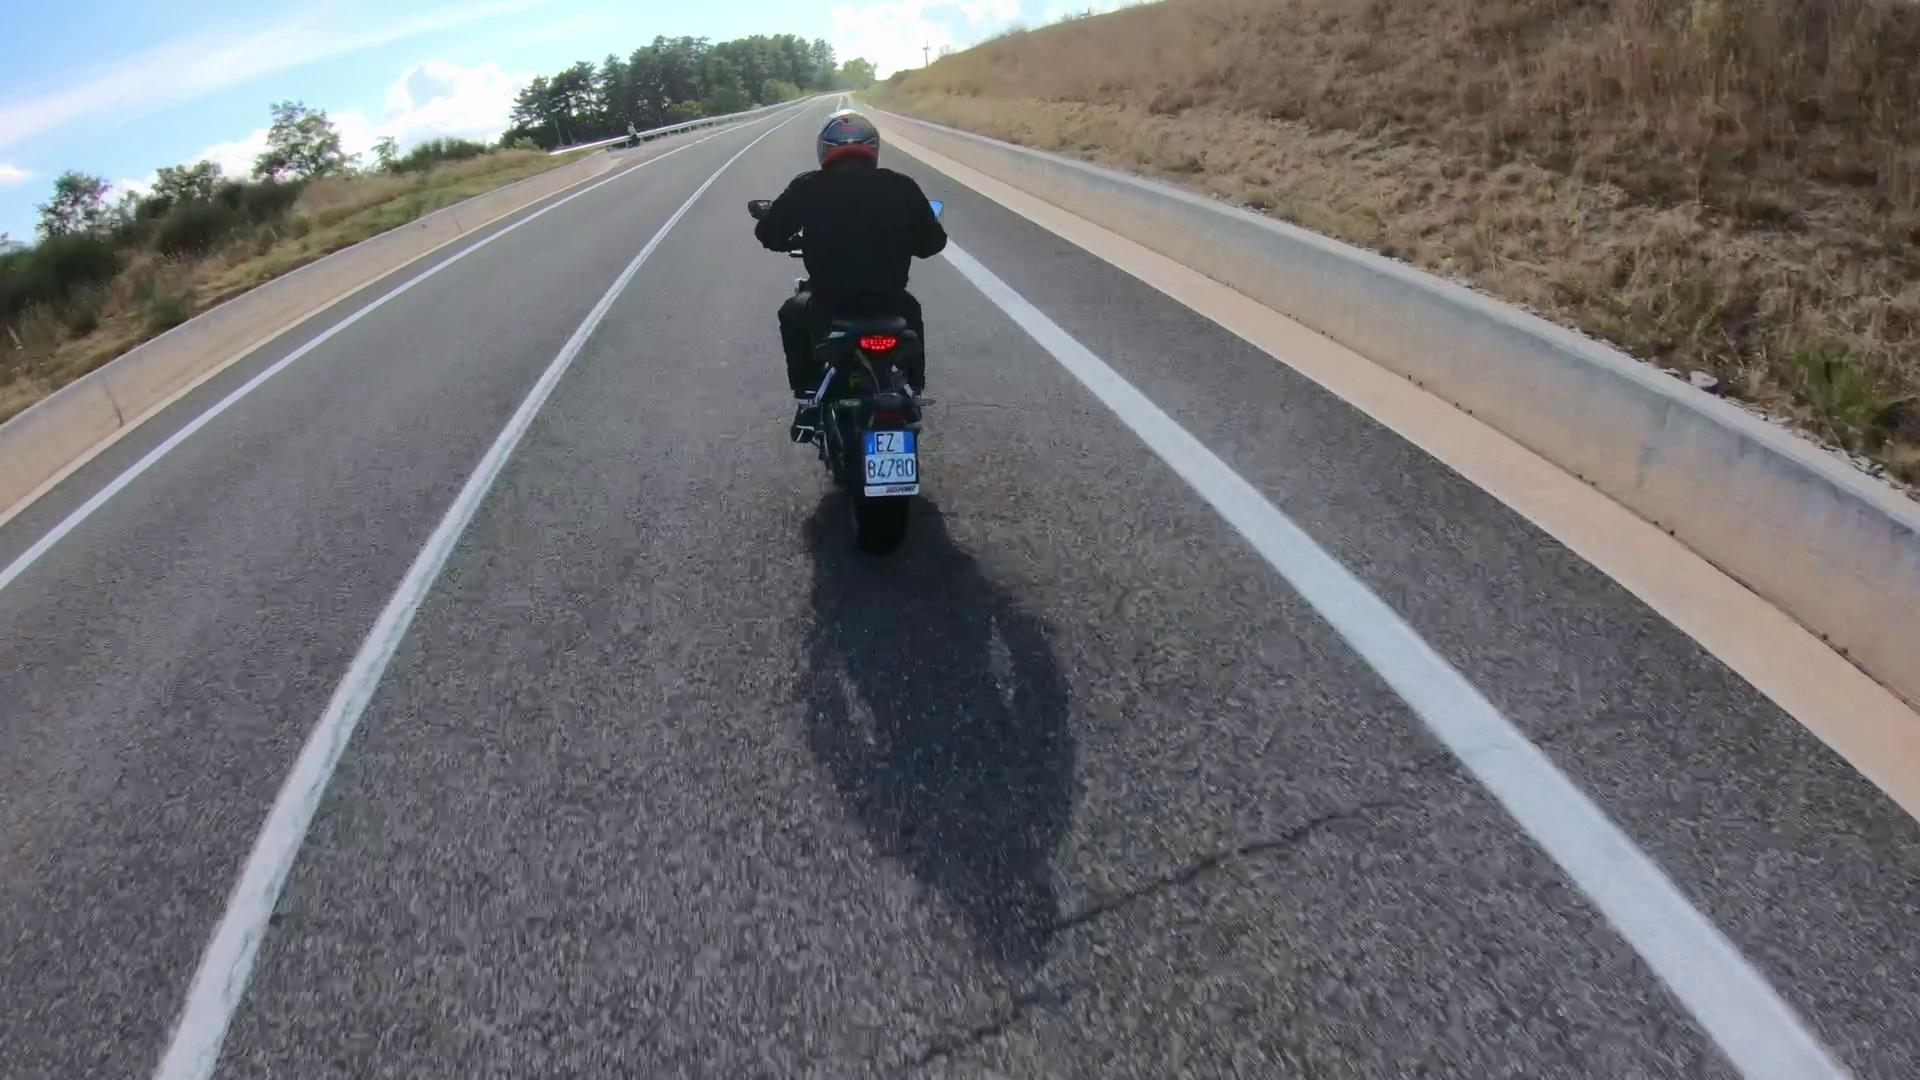cow: (748, 190, 940, 580)
horse: (738, 105, 950, 427)
